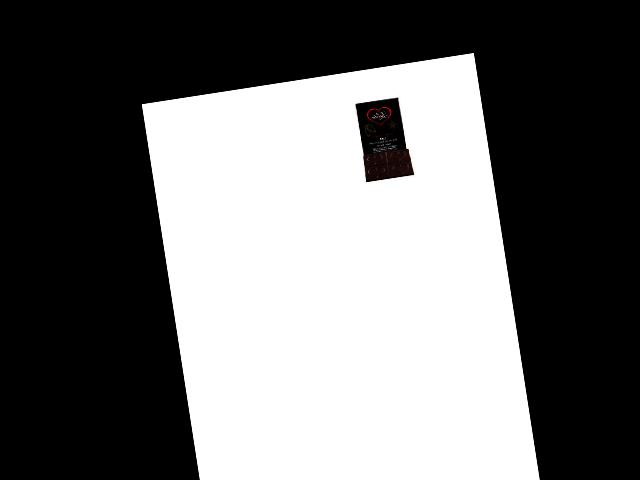chocolate: (352, 95, 418, 185)
